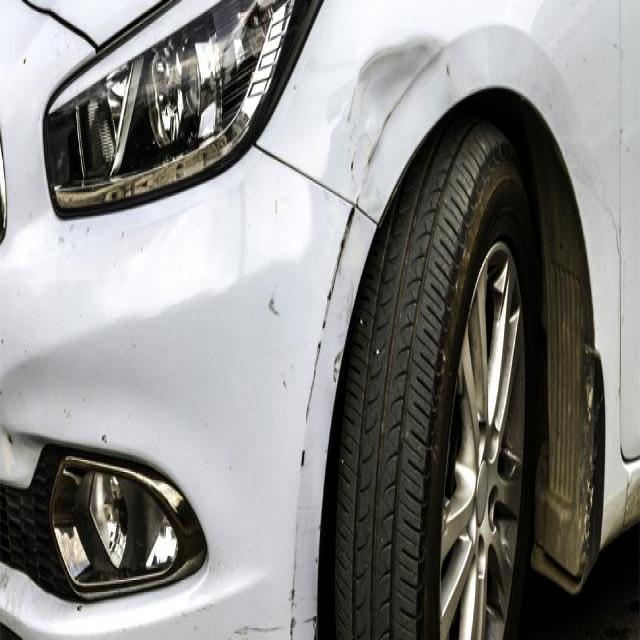minor: (365, 131, 384, 173), (267, 293, 278, 315)
moderate: (292, 223, 365, 628), (344, 38, 446, 192)
